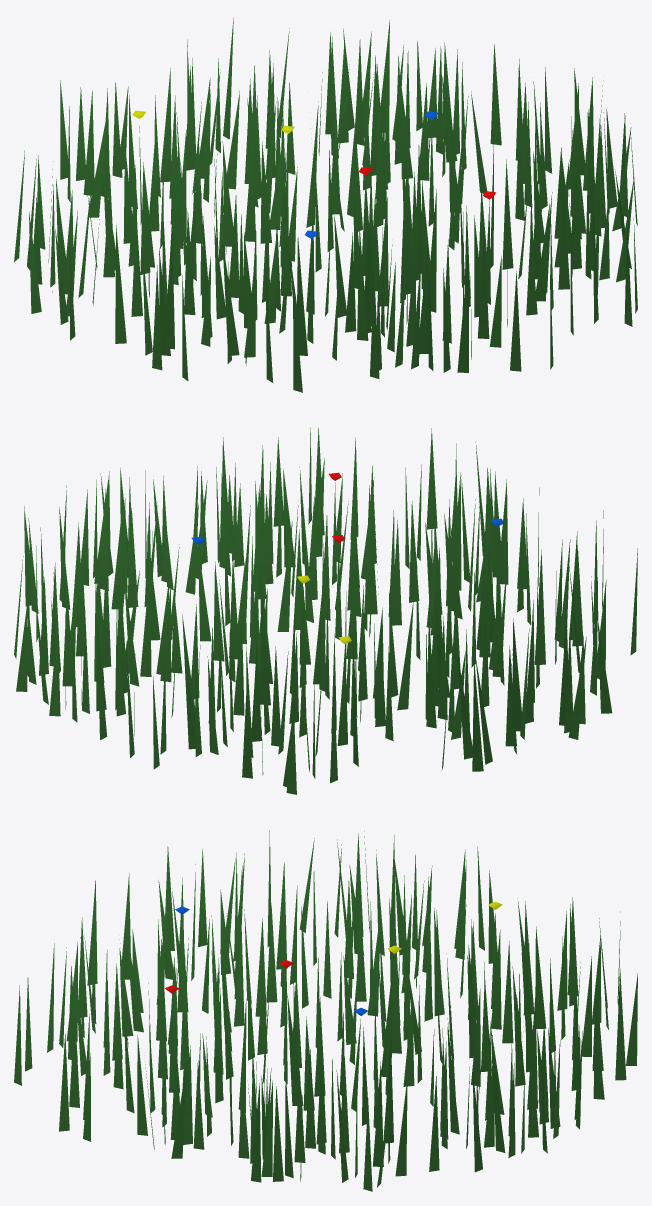
File: FlowerField.fbx
3 renders of one model, top to bottom at view 1: azimuth 30°, elevation 25°; view 2: azimuth 150°, elevation 25°; view 3: azimuth 270°, elevation 25°, orthographic. The views are drawn at different scales.
Parts seen in each view (by area): view 1: FlowerField; view 2: FlowerField; view 3: FlowerField.
Part boxes in pixels (<box>): FlowerField: <box>14,18,637,392</box>; FlowerField: <box>14,427,637,794</box>; FlowerField: <box>14,830,637,1191</box>.
Bounding box in the file's own units: 8.87 × 1.82 × 8.73.
